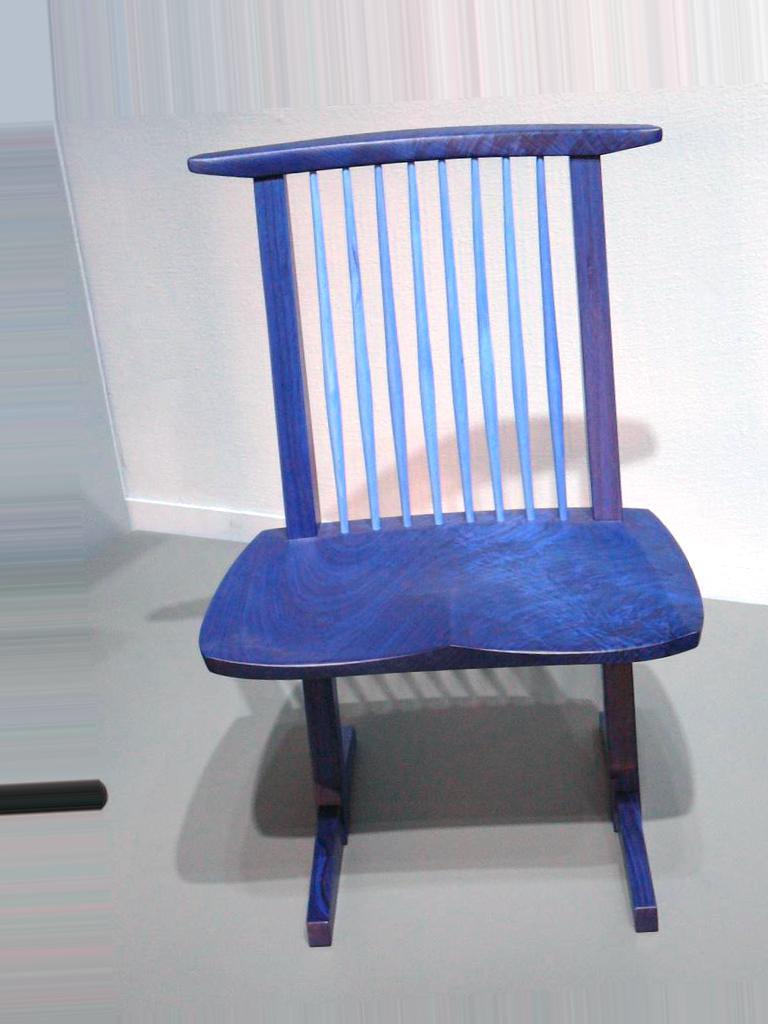chair: (186, 122, 706, 949)
